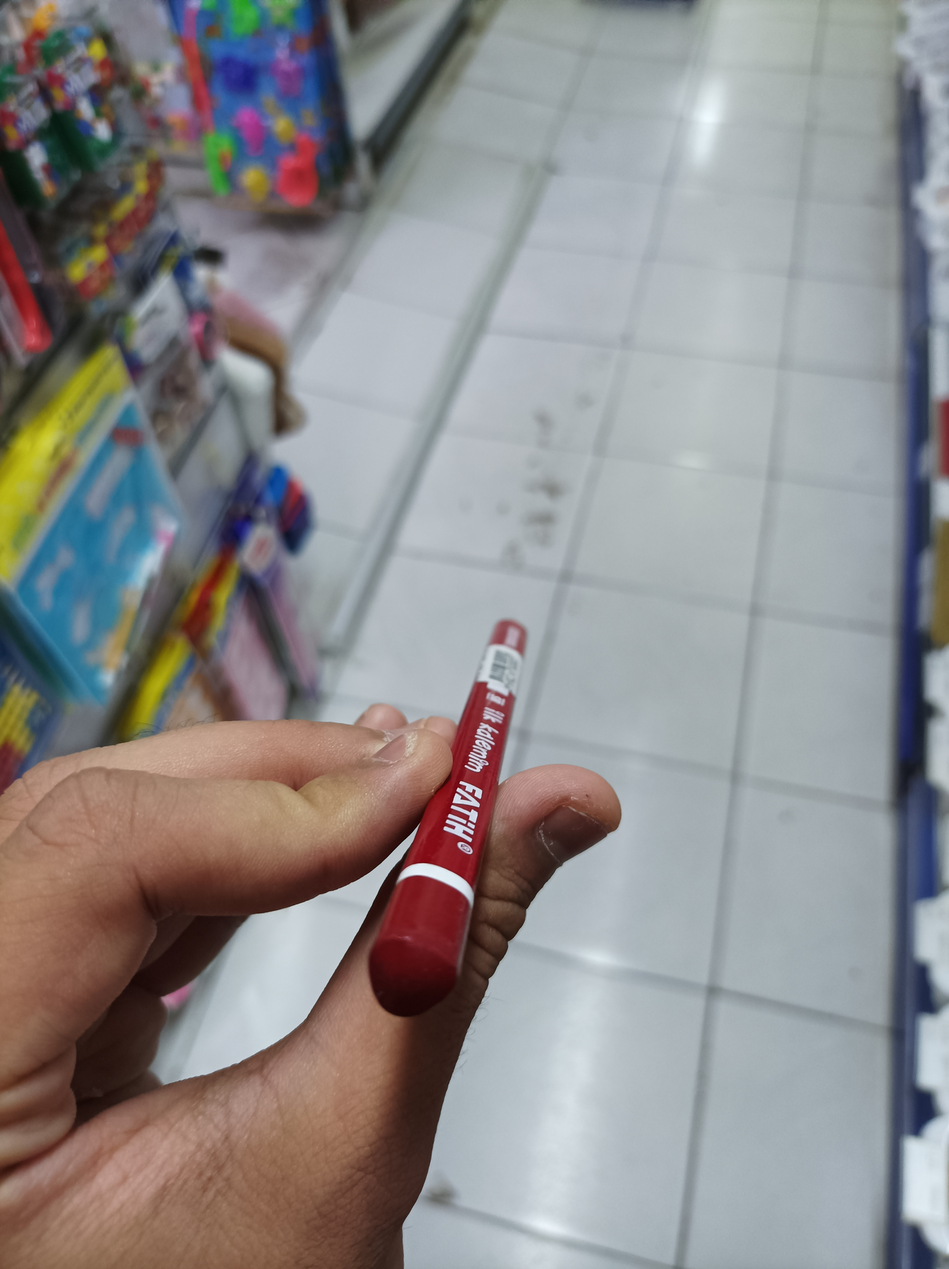plastic: (362, 622, 533, 1069)
